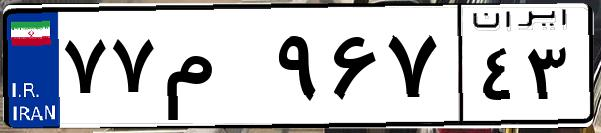3: (525, 38, 570, 115)
4: (475, 38, 525, 113)
6: (330, 28, 385, 110)
7: (385, 28, 445, 110), (57, 26, 110, 100), (110, 28, 158, 98)
9: (270, 28, 330, 110)
م: (158, 20, 270, 120)
